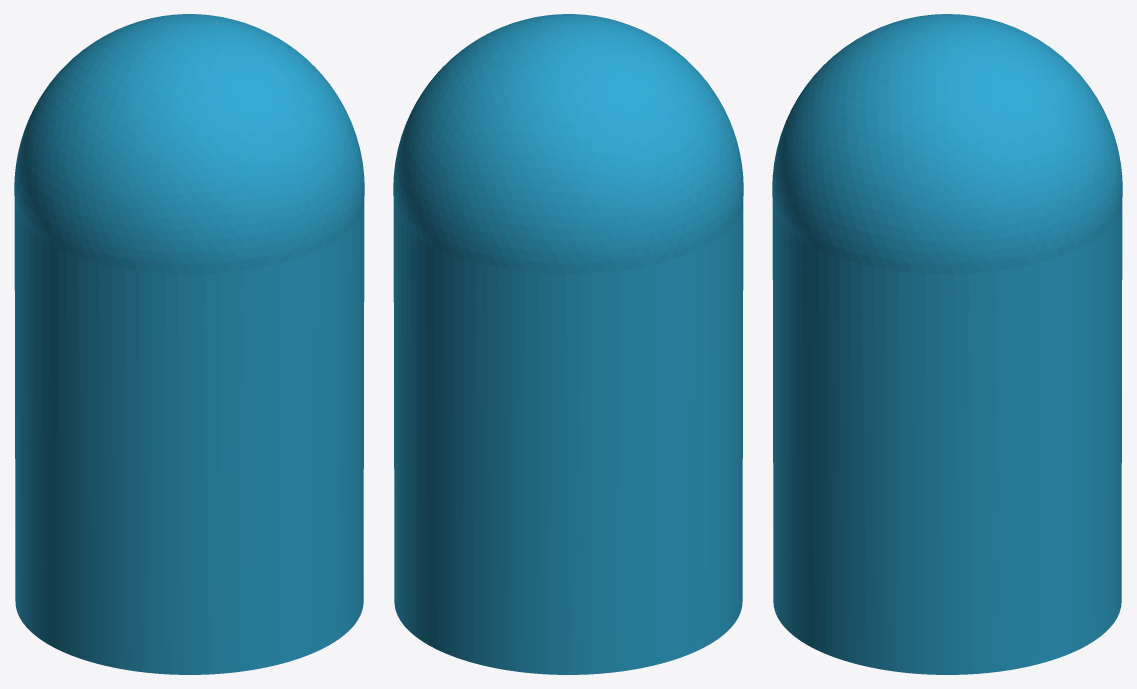
3 views of the same model, side by side, from view 1: azimuth 30°, elevation 25°; view 2: azimuth 150°, elevation 25°; view 3: azimuth 270°, elevation 25° (orthographic).
Visible parts, largest first — view 1: Icosphere.001; view 2: Icosphere.001; view 3: Icosphere.001.
Part boxes in pixels (box(x1,y1,x2,y2)): Icosphere.001: box(14, 14, 364, 674); Icosphere.001: box(393, 14, 743, 674); Icosphere.001: box(772, 14, 1122, 674).
Size of the model in its own units: 197 by 354 by 197.
